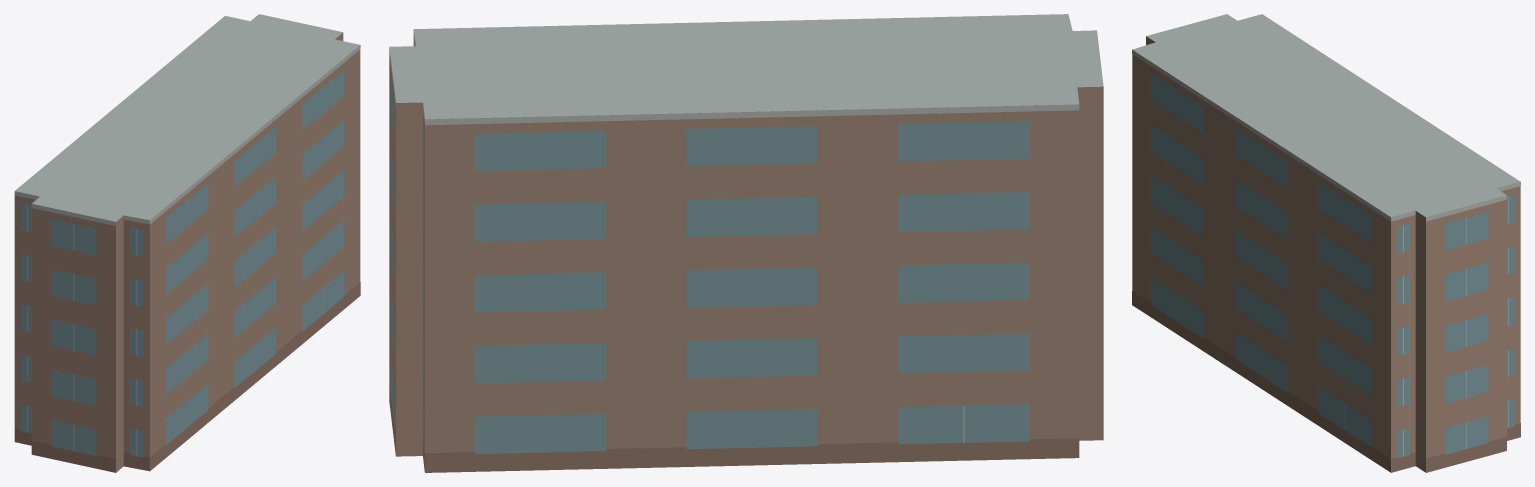
The model's file is survey-upis-32723885.glb.
The picture shows the model from 3 angles, left to right: view 1: azimuth 30°, elevation 25°; view 2: azimuth 150°, elevation 25°; view 3: azimuth 270°, elevation 25°; orthographic projection. The views are drawn at different scales.
Visible parts, largest first — view 1: survey-upis-32723885.tmp; view 2: survey-upis-32723885.tmp; view 3: survey-upis-32723885.tmp.
Part boxes in pixels (x1=…): survey-upis-32723885.tmp: x1=14, y1=14, x2=360, y2=472; survey-upis-32723885.tmp: x1=389, y1=14, x2=1103, y2=472; survey-upis-32723885.tmp: x1=1132, y1=14, x2=1520, y2=472.
Bounding box in the file's own units: 24.76 × 14.5 × 19.99.
